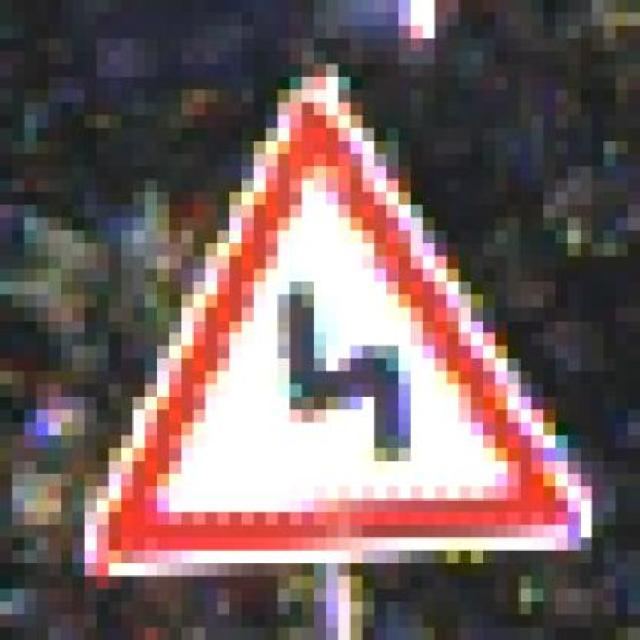Left Zig Zag Traffic: (72, 64, 616, 576)
